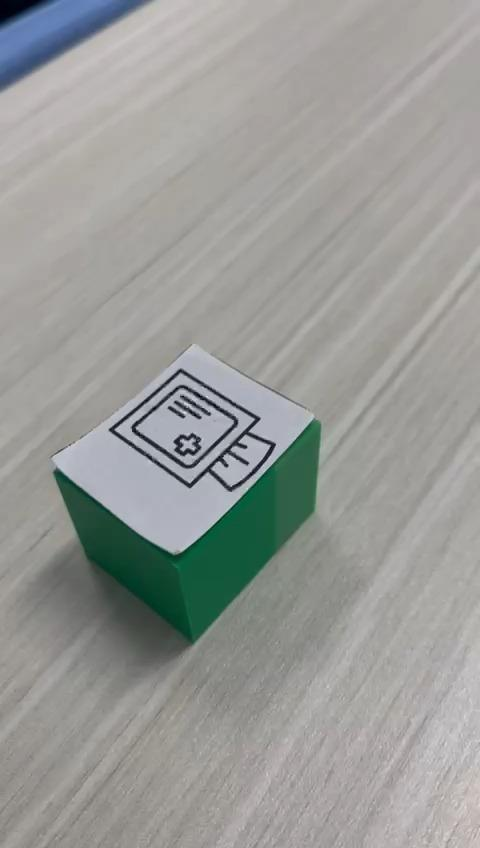Gauze: (49, 341, 322, 644)
